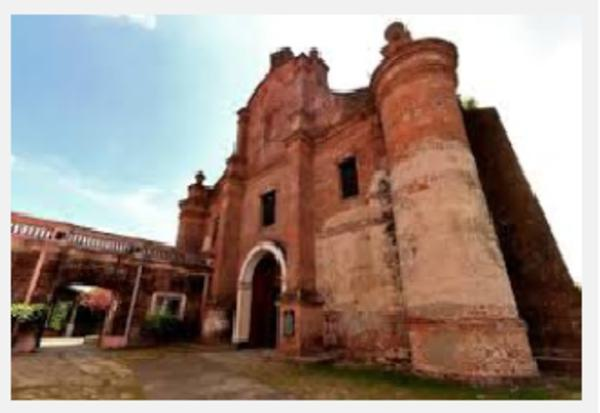santa_maria_church_santa_maria_ilocos_sur: (166, 14, 545, 388)
unfinished_paint: (311, 146, 520, 346)
